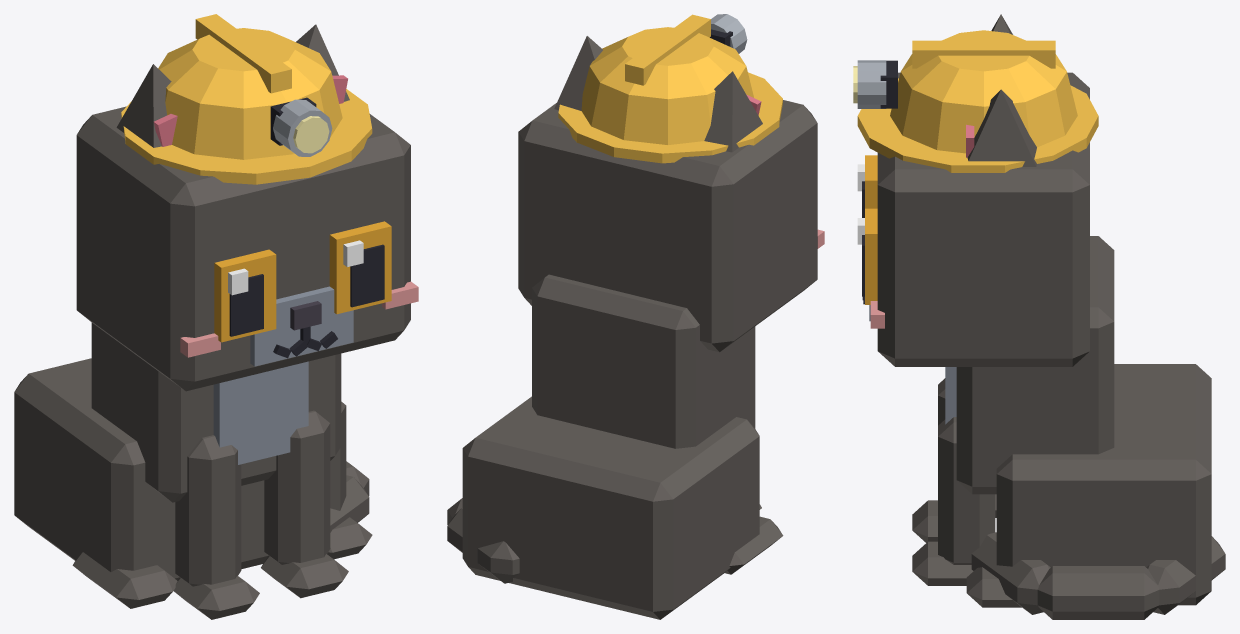
Rendered from CatCafe_Cat_Lantern_Sit.fbx.
3 renders of one model, left to right at view 1: azimuth 30°, elevation 25°; view 2: azimuth 150°, elevation 25°; view 3: azimuth 270°, elevation 25°, orthographic. The views are drawn at different scales.
Parts seen in each view (by area): view 1: CatCafe_Cat_Lantern_Sit_Head, CatCafe_Cat_Lantern_Sit_Body, CatCafe_Cat_Lantern_Sit_Prop, CatCafe_Cat_Lantern_Sit_LegF2, CatCafe_Cat_Lantern_Sit_LegF1, CatCafe_Cat_Lantern_Sit_Eye2, CatCafe_Cat_Lantern_Sit_Eye1, CatCafe_Cat_Lantern_Sit_EarR, CatCafe_Cat_Lantern_Sit_Tail, CatCafe_Cat_Lantern_Sit_EarL; view 2: CatCafe_Cat_Lantern_Sit_Body, CatCafe_Cat_Lantern_Sit_Head, CatCafe_Cat_Lantern_Sit_Prop, CatCafe_Cat_Lantern_Sit_EarR, CatCafe_Cat_Lantern_Sit_Tail, CatCafe_Cat_Lantern_Sit_EarL; view 3: CatCafe_Cat_Lantern_Sit_Body, CatCafe_Cat_Lantern_Sit_Head, CatCafe_Cat_Lantern_Sit_Prop, CatCafe_Cat_Lantern_Sit_Tail, CatCafe_Cat_Lantern_Sit_LegF1, CatCafe_Cat_Lantern_Sit_EarL, CatCafe_Cat_Lantern_Sit_Eye1, CatCafe_Cat_Lantern_Sit_LegF2, CatCafe_Cat_Lantern_Sit_Eye2.
Boxes of the visible parts, x1,y1,x2,y2 form: CatCafe_Cat_Lantern_Sit_Head: (76, 106, 418, 391); CatCafe_Cat_Lantern_Sit_Body: (14, 323, 372, 608); CatCafe_Cat_Lantern_Sit_Prop: (121, 14, 372, 184); CatCafe_Cat_Lantern_Sit_LegF2: (173, 435, 259, 619); CatCafe_Cat_Lantern_Sit_LegF1: (261, 410, 348, 598); CatCafe_Cat_Lantern_Sit_Eye2: (214, 249, 276, 342); CatCafe_Cat_Lantern_Sit_Eye1: (329, 221, 391, 314); CatCafe_Cat_Lantern_Sit_EarR: (116, 64, 177, 147); CatCafe_Cat_Lantern_Sit_Tail: (330, 461, 369, 532); CatCafe_Cat_Lantern_Sit_EarL: (296, 24, 349, 103); CatCafe_Cat_Lantern_Sit_Body: (462, 274, 783, 619); CatCafe_Cat_Lantern_Sit_Head: (518, 100, 824, 352); CatCafe_Cat_Lantern_Sit_Prop: (558, 14, 782, 163); CatCafe_Cat_Lantern_Sit_EarR: (704, 71, 762, 152); CatCafe_Cat_Lantern_Sit_Tail: (447, 498, 519, 583); CatCafe_Cat_Lantern_Sit_EarL: (554, 36, 602, 110); CatCafe_Cat_Lantern_Sit_Body: (945, 236, 1211, 607); CatCafe_Cat_Lantern_Sit_Head: (862, 72, 1089, 366); CatCafe_Cat_Lantern_Sit_Prop: (853, 30, 1098, 172); CatCafe_Cat_Lantern_Sit_Tail: (971, 532, 1225, 619); CatCafe_Cat_Lantern_Sit_LegF1: (912, 417, 995, 585); CatCafe_Cat_Lantern_Sit_EarL: (966, 89, 1036, 166); CatCafe_Cat_Lantern_Sit_Eye1: (857, 208, 877, 304); CatCafe_Cat_Lantern_Sit_LegF2: (912, 378, 945, 542); CatCafe_Cat_Lantern_Sit_Eye2: (857, 155, 877, 217).
Bounding box in the file's own units: 1.05 × 1.87 × 1.23.
Materials: 1 (1 with a texture image).
